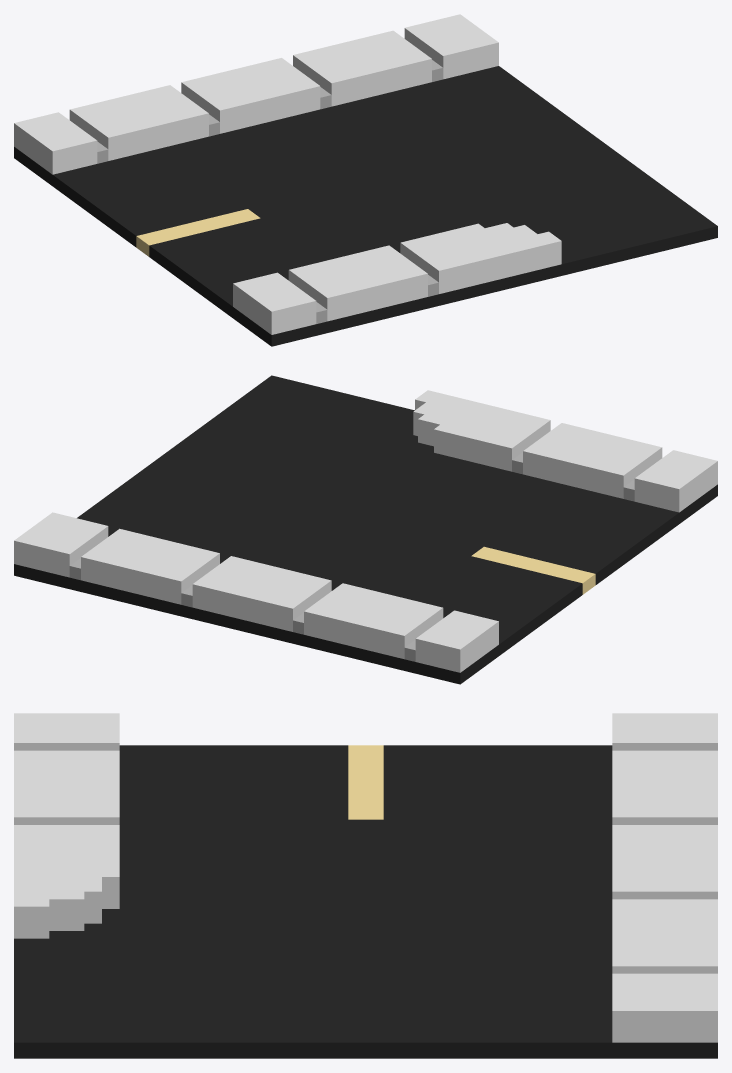
The picture shows the model from 3 angles, top to bottom: view 1: azimuth 30°, elevation 25°; view 2: azimuth 150°, elevation 25°; view 3: azimuth 270°, elevation 25°; orthographic projection. The views are drawn at different scales.
Visible parts, largest first — view 1: Matrix_4; view 2: Matrix_4; view 3: Matrix_4.
Part boxes in pixels (x1=…): Matrix_4: x1=14, y1=14, x2=717, y2=346; Matrix_4: x1=14, y1=375, x2=717, y2=684; Matrix_4: x1=14, y1=713, x2=717, y2=1058.
Bounding box in the file's own units: 40 × 3 × 40.
Materials: 1 (1 with a texture image).
